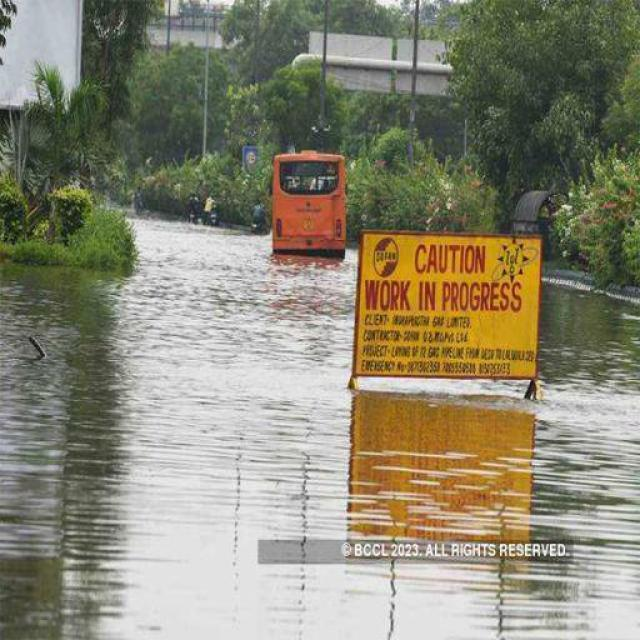puddle: (259, 411, 636, 632), (134, 217, 310, 631), (6, 272, 178, 631)
